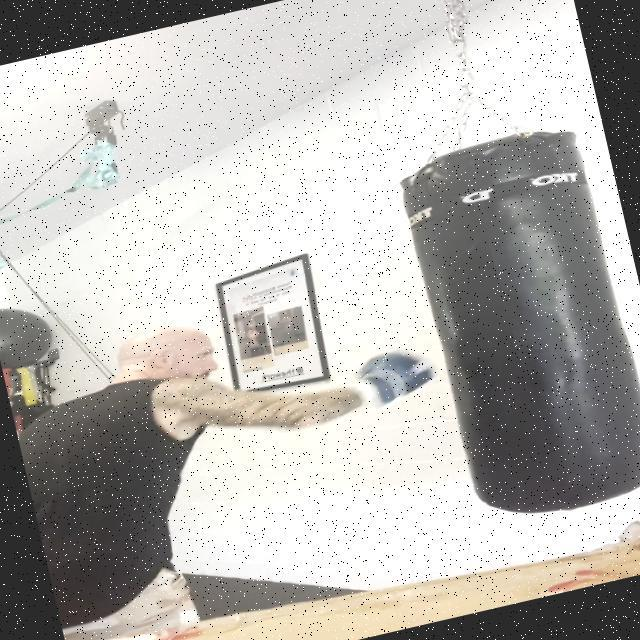bag: (386, 116, 640, 535)
hook: (143, 332, 439, 468)
